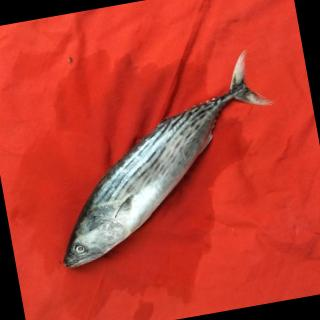Ikan: (26, 35, 302, 279)
